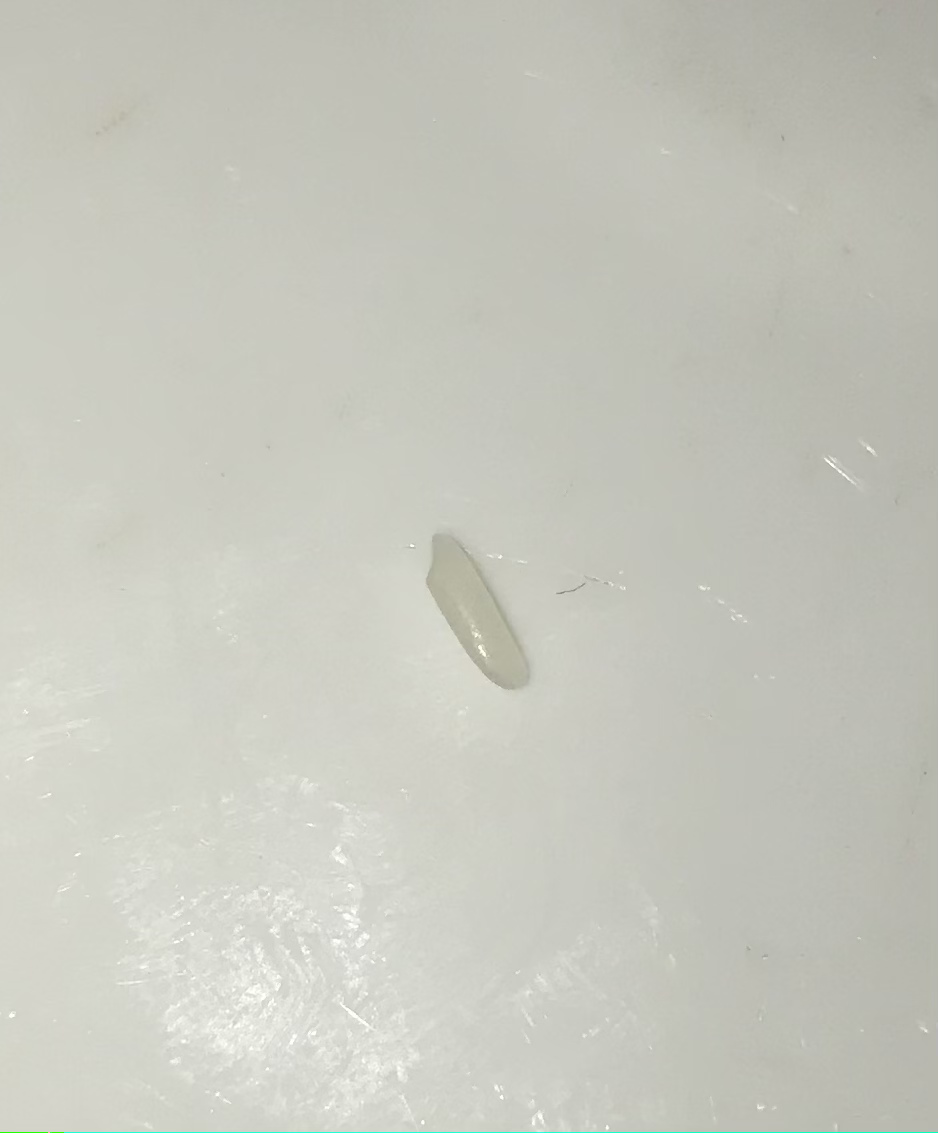Gao Ngoc Troi: (390, 506, 569, 711)
